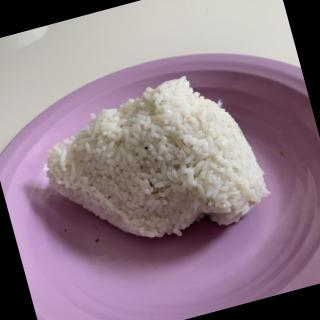Nasi: (33, 63, 275, 265)
